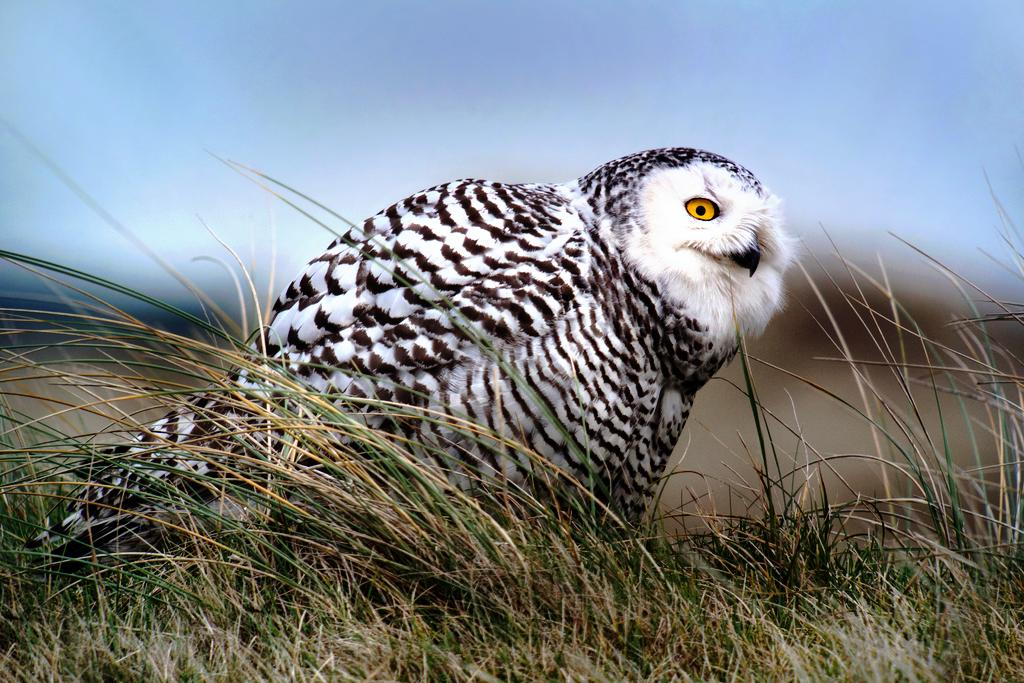Owl: (26, 140, 790, 578)
